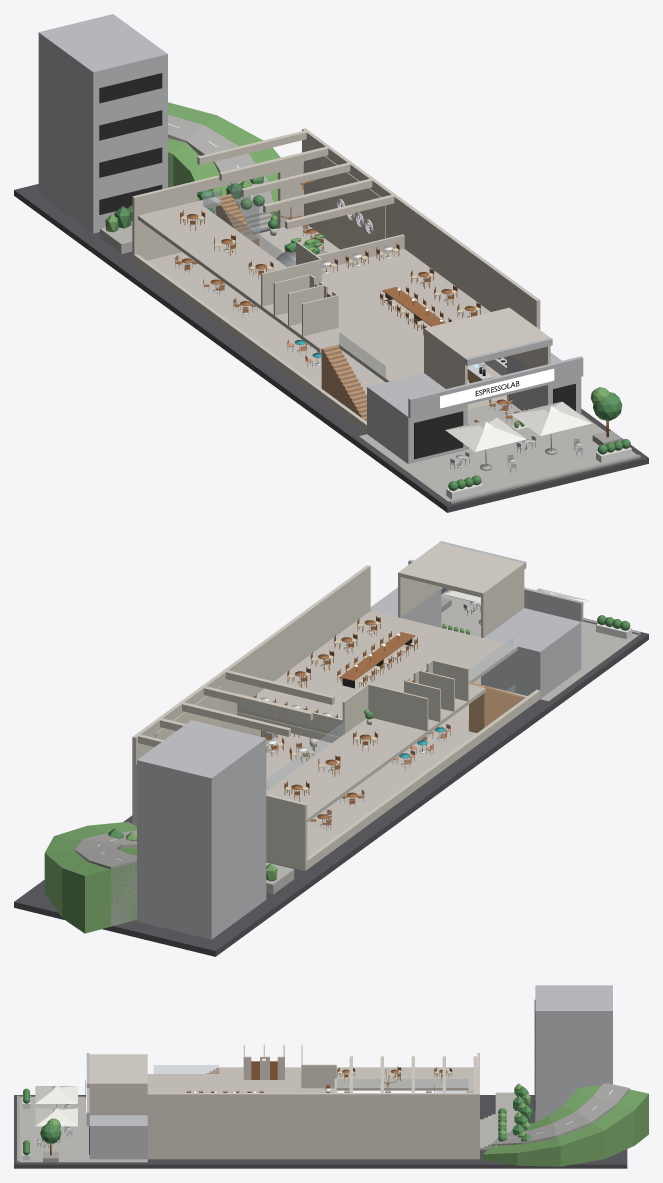
The model's file is esentepe.glb.
3 renders of one model, top to bottom at view 1: azimuth 30°, elevation 25°; view 2: azimuth 150°, elevation 25°; view 3: azimuth 270°, elevation 25°, orthographic. The views are drawn at different scales.
Parts seen in each view (by area): view 1: Komsu_Bina, Kaide, Ust_Zemin_A, Sag_Duvar, Teras_Zemin, Zemin, Asma_Kat_Zemin, Komsu_Sol, Yamac, Kapali_Alan_Tavan, Fayans_Duvar, Sol_Duvar_Kesit (+32 smaller); view 2: Komsu_Bina, Kaide, Ust_Zemin_A, Sag_Duvar, Yamac, Zemin, Asma_Kat_Zemin, Komsu_Sol, Kapali_Alan_Tavan, Yokus_Yol, Sol_Duvar_Kesit, Teras_Zemin (+20 smaller); view 3: Sag_Duvar, Komsu_Bina, Yamac, Kaide, Teras_Zemin, Asma_Kat_Zemin, Ust_Zemin_A, Komsu_Sag, Yokus_Yol, Kapali_Yan_Sag, Kapali_Alan_Tavan, Asma_Kat_Cam_Yan (+7 smaller).
Part boxes in pixels (x1=…): Komsu_Bina: x1=38, y1=14, x2=167, y2=233; Kaide: x1=14, y1=184, x2=648, y2=512; Ust_Zemin_A: x1=322, y1=265, x2=501, y2=382; Sag_Duvar: x1=302, y1=128, x2=540, y2=329; Teras_Zemin: x1=359, y1=400, x2=636, y2=502; Zemin: x1=147, y1=225, x2=506, y2=409; Asma_Kat_Zemin: x1=138, y1=201, x2=286, y2=309; Komsu_Sol: x1=367, y1=373, x2=467, y2=463; Yamac: x1=168, y1=102, x2=280, y2=217; Kapali_Alan_Tavan: x1=426, y1=308, x2=547, y2=358; Fayans_Duvar: x1=321, y1=156, x2=385, y2=249; Sol_Duvar_Kesit: x1=134, y1=254, x2=366, y2=433; Komsu_Bina: x1=137, y1=720, x2=266, y2=939; Kaide: x1=14, y1=588, x2=648, y2=956; Ust_Zemin_A: x1=261, y1=610, x2=517, y2=710; Sag_Duvar: x1=132, y1=565, x2=370, y2=825; Yamac: x1=44, y1=822, x2=136, y2=933; Zemin: x1=263, y1=686, x2=527, y2=857; Asma_Kat_Zemin: x1=266, y1=718, x2=427, y2=822; Komsu_Sol: x1=481, y1=608, x2=581, y2=698; Kapali_Alan_Tavan: x1=398, y1=542, x2=524, y2=596; Yokus_Yol: x1=75, y1=831, x2=136, y2=926; Sol_Duvar_Kesit: x1=307, y1=689, x2=540, y2=869; Teras_Zemin: x1=441, y1=591, x2=638, y2=701; Sag_Duvar: x1=147, y1=1093, x2=479, y2=1159; Komsu_Bina: x1=535, y1=985, x2=612, y2=1121; Yamac: x1=483, y1=1085, x2=648, y2=1166; Kaide: x1=14, y1=1095, x2=627, y2=1168; Teras_Zemin: x1=19, y1=1096, x2=147, y2=1162; Asma_Kat_Zemin: x1=336, y1=1067, x2=477, y2=1090; Ust_Zemin_A: x1=147, y1=1074, x2=302, y2=1092; Komsu_Sag: x1=89, y1=1115, x2=147, y2=1159; Yokus_Yol: x1=491, y1=1083, x2=629, y2=1145; Kapali_Yan_Sag: x1=89, y1=1083, x2=147, y2=1115; Kapali_Alan_Tavan: x1=89, y1=1054, x2=147, y2=1083; Asma_Kat_Cam_Yan: x1=337, y1=1079, x2=468, y2=1087.
Bounding box in the file's own units: 17.6 × 13.5 × 65.52.
